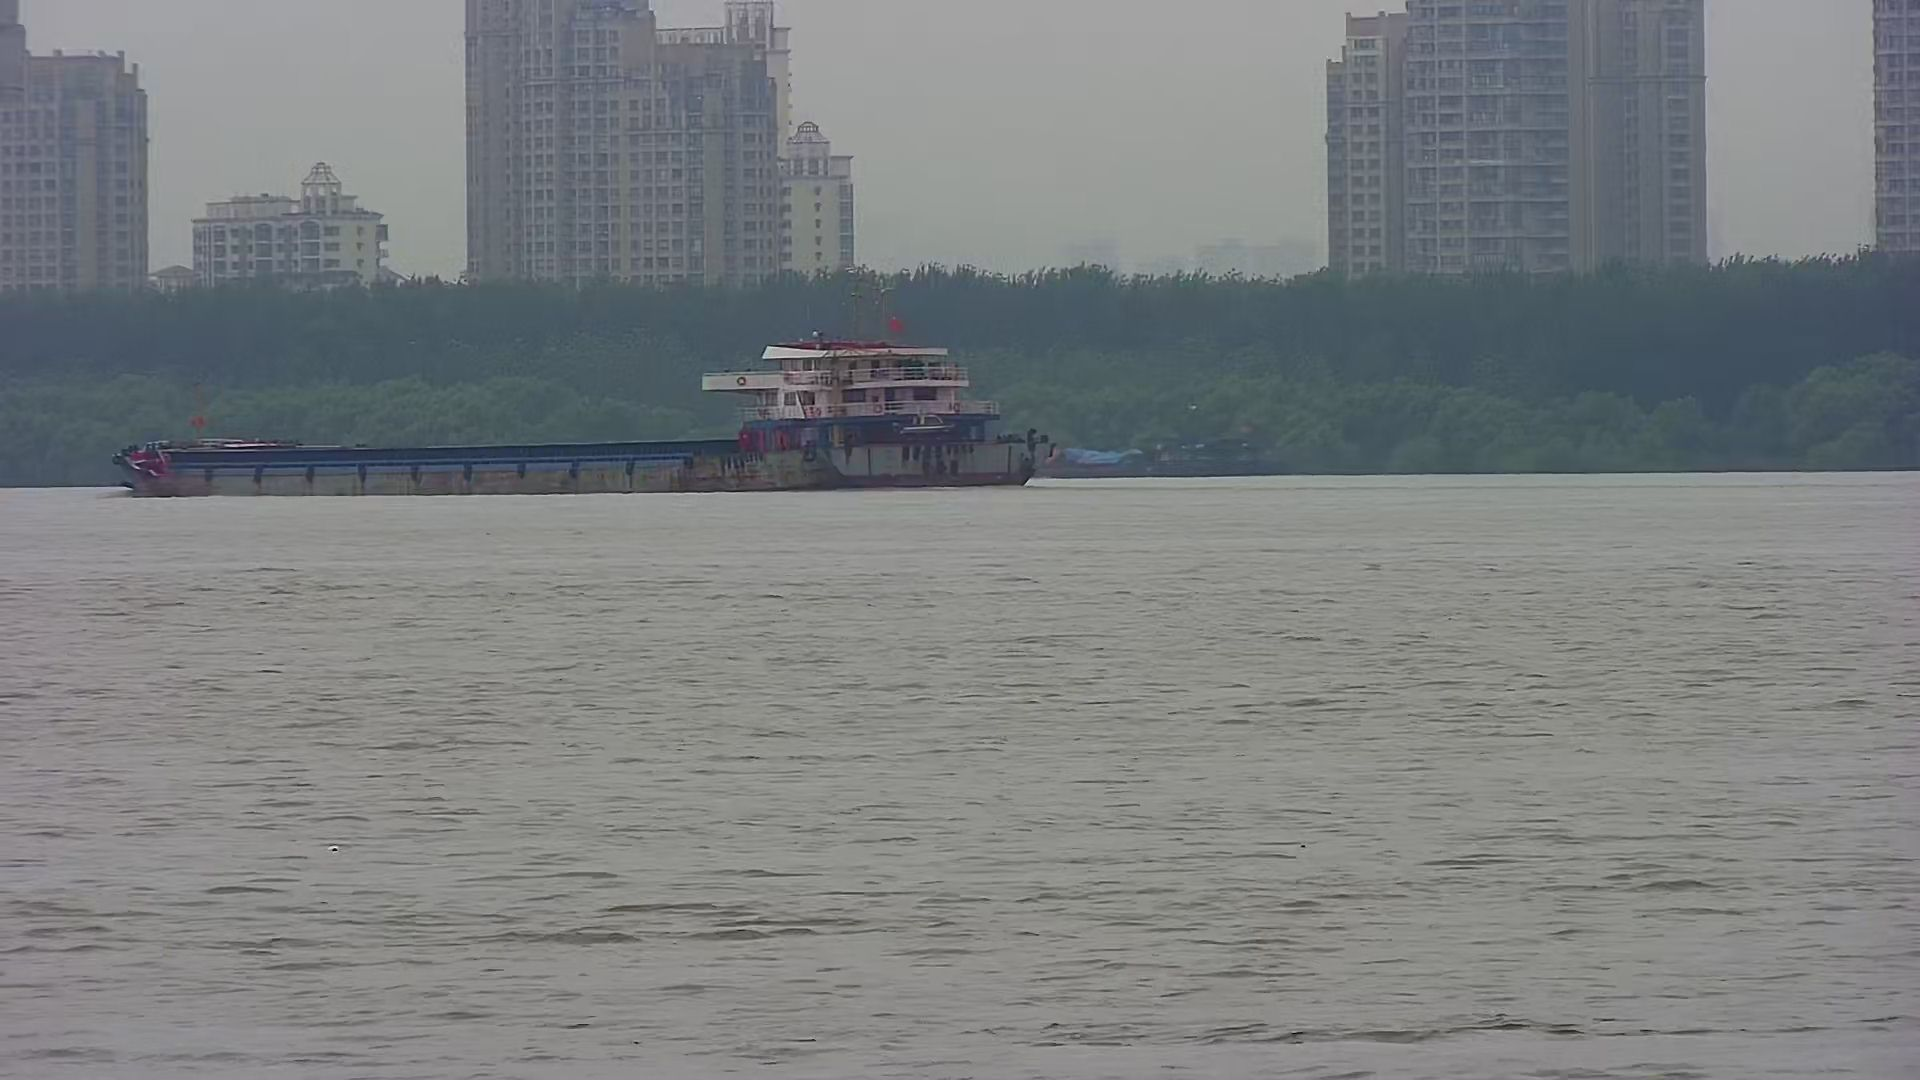ship: (109, 327, 1058, 497), (1035, 423, 1290, 479)
